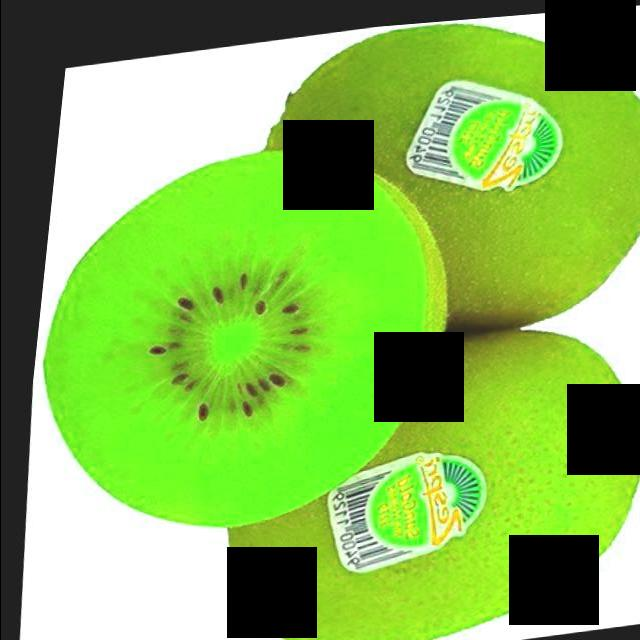kiwi: (221, 4, 640, 362), (201, 307, 640, 640)
